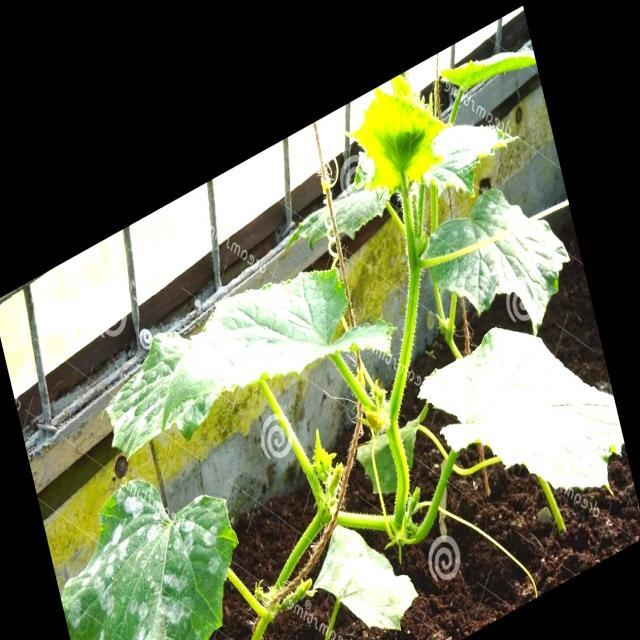Leaf_Mold: (59, 485, 265, 640), (422, 176, 570, 324), (108, 302, 226, 469), (303, 158, 405, 250)
